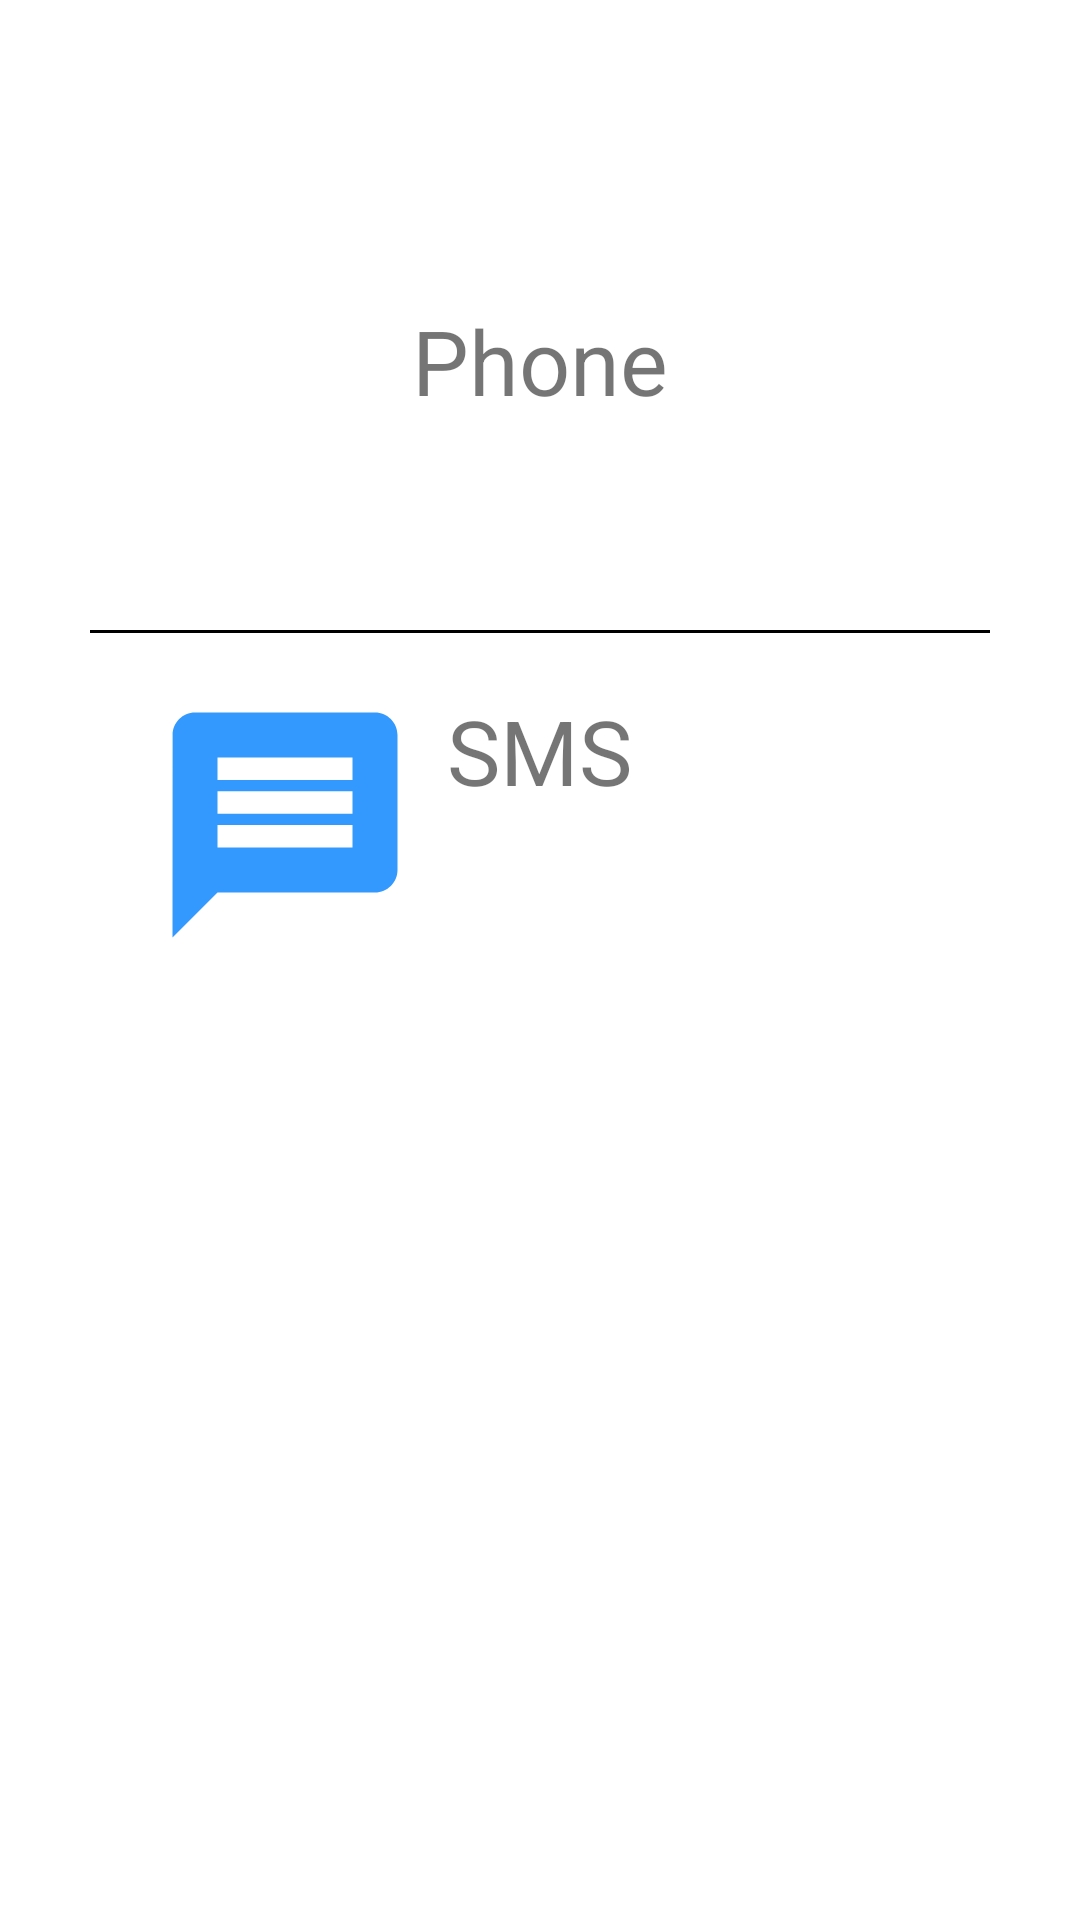

Icons on this 1080x1920 Android screen, each with the point to tap as (x,y):
message: (285,824)
